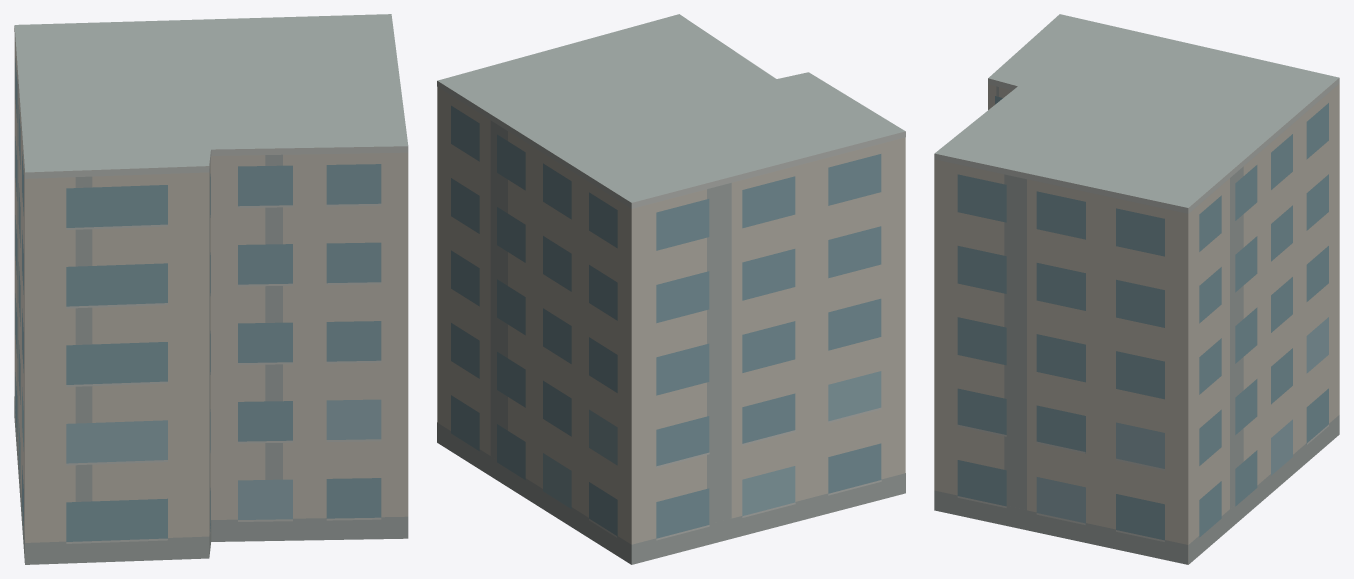
The model's file is survey-upis-32885239.glb.
3 views of the same model, side by side, from view 1: azimuth 30°, elevation 25°; view 2: azimuth 150°, elevation 25°; view 3: azimuth 270°, elevation 25° (orthographic). The views are drawn at different scales.
Visible parts, largest first — view 1: survey-upis-32885239.tmp; view 2: survey-upis-32885239.tmp; view 3: survey-upis-32885239.tmp.
Boxes of the visible parts, x1=… form: survey-upis-32885239.tmp: x1=14, y1=14, x2=408, y2=564; survey-upis-32885239.tmp: x1=437, y1=14, x2=905, y2=564; survey-upis-32885239.tmp: x1=934, y1=14, x2=1339, y2=564.
Bounding box in the file's own units: 17.27 × 14.8 × 15.24.
